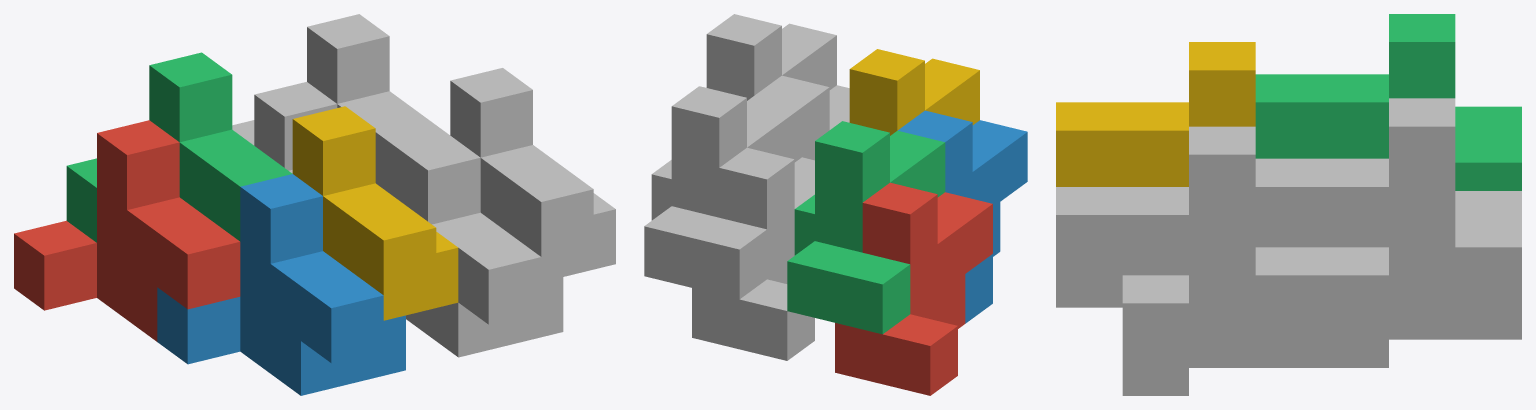
The model's file is tiling.obj.
3 renders of one model, left to right at view 1: azimuth 30°, elevation 25°; view 2: azimuth 150°, elevation 25°; view 3: azimuth 270°, elevation 25°, orthographic. The views are drawn at different scales.
Parts seen in each view (by area): view 1: copy_1_domain_2, copy_1_domain_1, copy_1_domain_6, copy_1_domain_4, copy_1_domain_8, copy_1_domain_3, copy_1_domain_7, copy_1_domain_5; view 2: copy_1_domain_3, copy_1_domain_7, copy_1_domain_1, copy_1_domain_5, copy_1_domain_2, copy_1_domain_4, copy_1_domain_8, copy_1_domain_6; view 3: copy_1_domain_7, copy_1_domain_8, copy_1_domain_3, copy_1_domain_4, copy_1_domain_6, copy_1_domain_5.
Boxes of the visible parts, x1=… form: copy_1_domain_2: x1=157, y1=174, x2=405, y2=395; copy_1_domain_1: x1=14, y1=120, x2=240, y2=341; copy_1_domain_6: x1=397, y1=135, x2=563, y2=357; copy_1_domain_4: x1=292, y1=106, x2=458, y2=320; copy_1_domain_8: x1=450, y1=68, x2=615, y2=282; copy_1_domain_3: x1=66, y1=52, x2=292, y2=242; copy_1_domain_7: x1=232, y1=14, x2=449, y2=198; copy_1_domain_5: x1=254, y1=82, x2=337, y2=173; copy_1_domain_3: x1=787, y1=121, x2=945, y2=334; copy_1_domain_7: x1=644, y1=86, x2=801, y2=299; copy_1_domain_1: x1=835, y1=182, x2=992, y2=395; copy_1_domain_5: x1=692, y1=147, x2=814, y2=360; copy_1_domain_2: x1=898, y1=110, x2=1027, y2=323; copy_1_domain_4: x1=849, y1=49, x2=979, y2=135; copy_1_domain_8: x1=706, y1=14, x2=836, y2=100; copy_1_domain_6: x1=754, y1=75, x2=849, y2=160; copy_1_domain_7: x1=1255, y1=98, x2=1521, y2=335; copy_1_domain_8: x1=1056, y1=126, x2=1322, y2=363; copy_1_domain_3: x1=1255, y1=14, x2=1521, y2=190; copy_1_domain_4: x1=1056, y1=42, x2=1255, y2=186; copy_1_domain_6: x1=1056, y1=275, x2=1322, y2=395; copy_1_domain_5: x1=1322, y1=307, x2=1521, y2=367.
Bounding box in the file's own units: 8 × 4 × 7.
